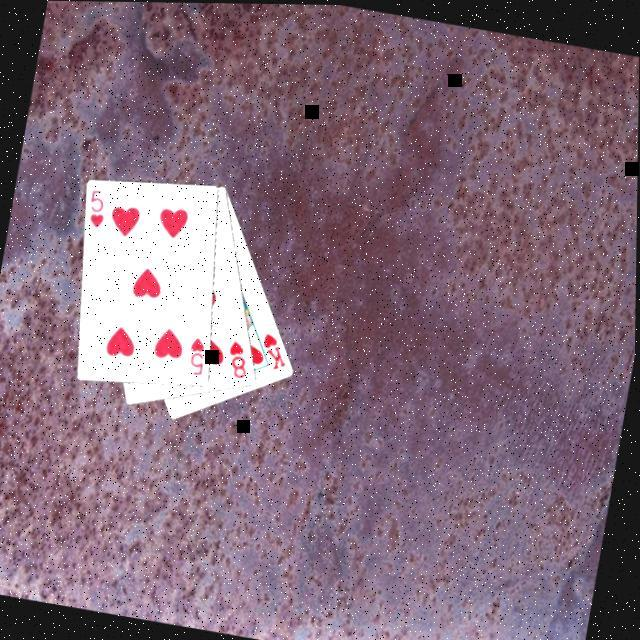5H: (84, 186, 114, 233), (184, 334, 213, 380)
8H: (224, 337, 256, 383)
KH: (257, 329, 296, 375)
